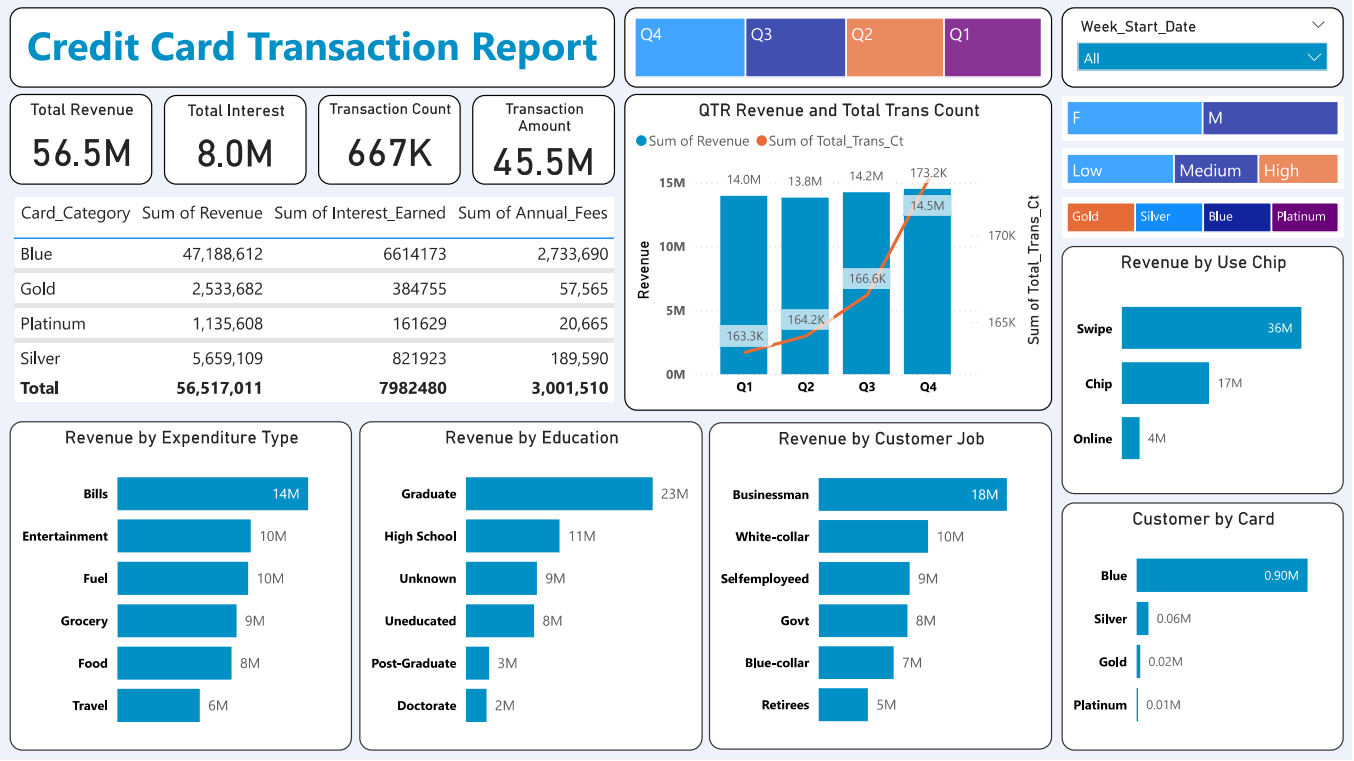

What the dashboard file says about the page in this screenshot:
{"tool":"powerbi","page":{"name":"CC Transaction","canvas":[1280,720],"ordinal":0},"visuals":[{"type":"textbox","box":[9.7,8.4,573.1,76],"z":0},{"type":"lineStackedColumnComboChart","title":"QTR Revenue and Total Trans Count","fields":{"Category":["credit_card_details.Qtr"],"Y":["Sum(credit_card_details.Revenue)"],"Y2":["Sum(credit_card_details.Total_Trans_Ct)"]},"box":[592.4,90.5,404.2,300],"z":1000},{"type":"barChart","title":"Revenue by Expenditure Type","fields":{"Y":["Sum(credit_card_details.Revenue)"],"Category":["credit_card_details.Exp_Type"]},"box":[9.7,400.3,324.5,311.3],"z":2000},{"type":"barChart","title":"Revenue by Education","fields":{"Y":["Sum(credit_card_details.Revenue)"],"Category":["customer_details.Education_Level"]},"box":[340.6,400.3,325,311.3],"z":3000},{"type":"barChart","title":"Revenue by Customer Job","fields":{"Y":["Sum(credit_card_details.Revenue)"],"Category":["customer_details.Customer_Job"]},"box":[672,400.9,324.5,310.1],"z":4000},{"type":"barChart","title":"Customer by Card","fields":{"Y":["Sum(credit_card_details.Customer_Acq_Cost)"],"Category":["credit_card_details.Card_Category"]},"box":[1005.8,476.7,267.4,234.9],"z":5000},{"type":"barChart","title":"Revenue by Use Chip","fields":{"Y":["Sum(credit_card_details.Revenue)"],"Category":["credit_card_details.Use_Chip"]},"box":[1005.8,234,267.4,235],"z":6000},{"type":"tableEx","fields":{"Values":["credit_card_details.Card_Category","Sum(credit_card_details.Revenue)","Sum(credit_card_details.Interest_Earned)","Sum(credit_card_details.Annual_Fees)"]},"box":[8.9,182.6,583.3,210.4],"z":7000},{"type":"card","title":"Total Revenue","fields":{"Values":["Sum(credit_card_details.Revenue)"]},"box":[9.7,90.2,135.1,85.7],"z":8000},{"type":"card","title":"Transaction Amount","fields":{"Values":["Sum(credit_card_details.Total_Trans_Amt)"]},"box":[447.6,90.8,135.1,85],"z":9000},{"type":"card","title":"Transaction Count","fields":{"Values":["Sum(credit_card_details.Total_Trans_Ct)"]},"box":[301.7,90.5,135,85],"z":10000},{"type":"card","title":"Total Interest","fields":{"Values":["Sum(credit_card_details.Interest_Earned)"]},"box":[155.7,90.5,135,85],"z":11000},{"type":"slicer","fields":{"Values":["credit_card_details.Week_Start_Date"]},"box":[1006.2,8.4,266.6,76],"z":12000},{"type":"treemap","fields":{"Group":["credit_card_details.Qtr"],"Values":["Avg(credit_card_details.Client_Num)"]},"box":[592.4,8.4,404.2,76],"z":13000},{"type":"treemap","fields":{"Values":["Avg(credit_card_details.Client_Num)"],"Group":["credit_card_details.Card_Category"]},"box":[1005.8,187.9,267.4,38.4],"z":14000},{"type":"treemap","fields":{"Values":["Avg(credit_card_details.Client_Num)"],"Group":["customer_details.Gender"]},"box":[1005.8,92.2,267.4,41.9],"z":15000},{"type":"treemap","fields":{"Values":["CountNonNull(credit_card_details.Client_Num)"],"Group":["customer_details.IncomeGroup"]},"box":[1005.8,141.8,267.4,38.4],"z":16000}]}

Visuals, with their boxes in screenshot pixels (x1, y1, x2, y2), scaled from the page's 1280x720 canvas onto the 1354x761 screenshot:
textbox: box(10, 9, 616, 89)
"QTR Revenue and Total Trans Count" lineStackedColumnComboChart: box(627, 96, 1054, 413)
"Revenue by Expenditure Type" barChart: box(10, 423, 354, 752)
"Revenue by Education" barChart: box(360, 423, 704, 752)
"Revenue by Customer Job" barChart: box(711, 424, 1054, 751)
"Customer by Card" barChart: box(1064, 504, 1347, 752)
"Revenue by Use Chip" barChart: box(1064, 247, 1347, 496)
tableEx - credit_card_details.Card_Category x Sum(credit_card_details.Revenue): box(9, 193, 626, 415)
"Total Revenue" card: box(10, 95, 153, 186)
"Transaction Amount" card: box(473, 96, 616, 186)
"Transaction Count" card: box(319, 96, 462, 185)
"Total Interest" card: box(165, 96, 308, 185)
slicer - credit_card_details.Week_Start_Date: box(1064, 9, 1346, 89)
treemap - credit_card_details.Qtr x Avg(credit_card_details.Client_Num): box(627, 9, 1054, 89)
treemap - Avg(credit_card_details.Client_Num) x credit_card_details.Card_Category: box(1064, 199, 1347, 239)
treemap - Avg(credit_card_details.Client_Num) x customer_details.Gender: box(1064, 97, 1347, 142)
treemap - CountNonNull(credit_card_details.Client_Num) x customer_details.IncomeGroup: box(1064, 150, 1347, 190)
